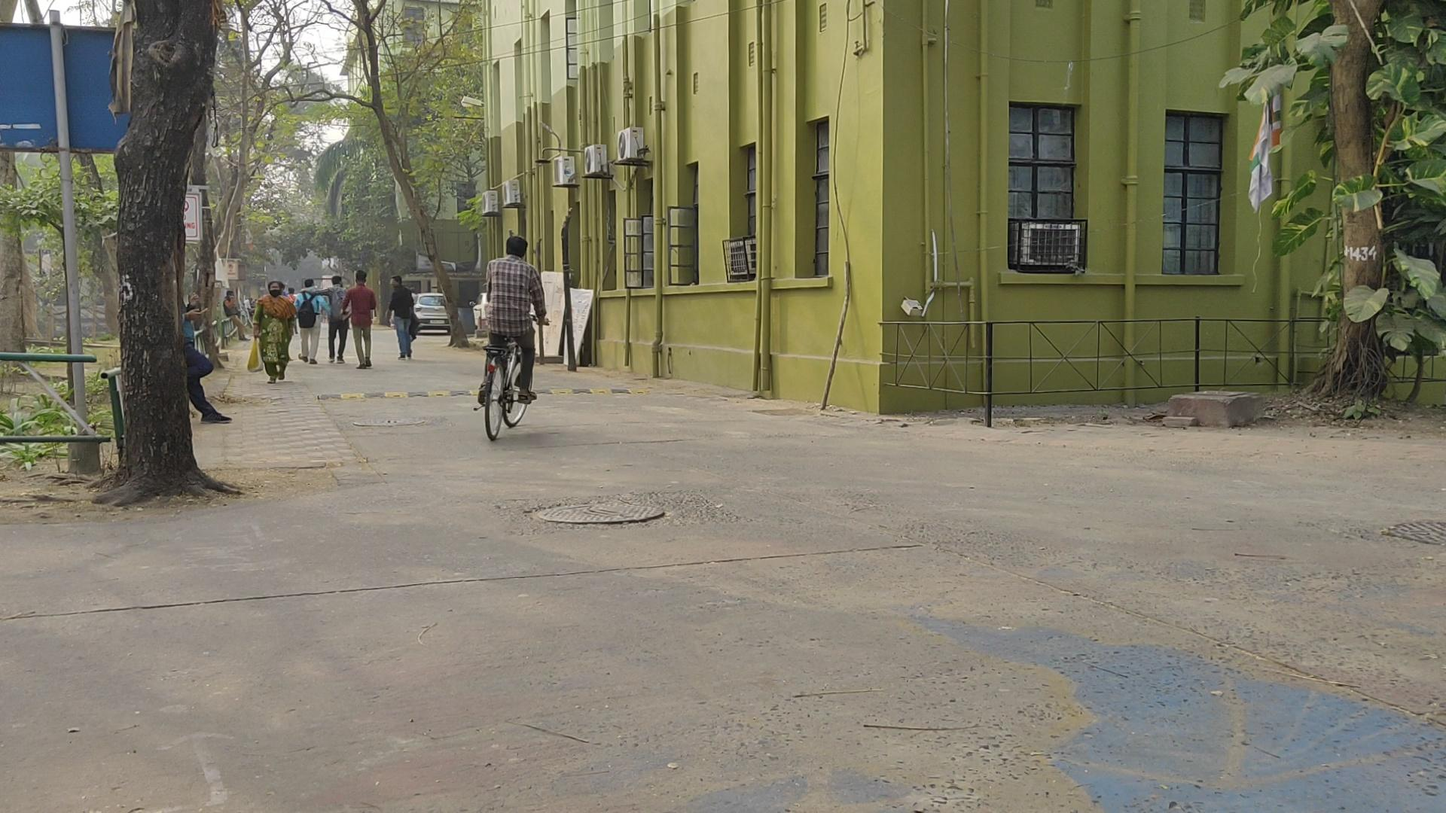bike: (476, 235, 539, 445)
car: (411, 293, 453, 336)
